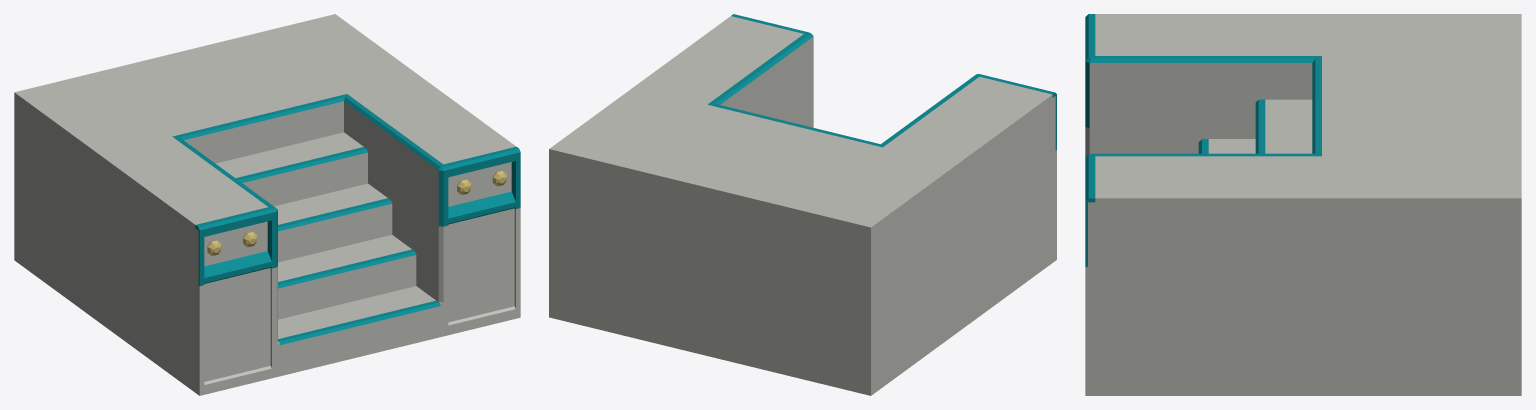
File: stairs.glb
3 views of the same model, side by side, from view 1: azimuth 30°, elevation 25°; view 2: azimuth 150°, elevation 25°; view 3: azimuth 270°, elevation 25° (orthographic). The views are drawn at different scales.
Visible parts, largest first — view 1: mesh_0; view 2: mesh_0; view 3: mesh_0.
Part boxes in pixels (x1=…): mesh_0: x1=14, y1=14, x2=520, y2=395; mesh_0: x1=549, y1=14, x2=1056, y2=395; mesh_0: x1=1085, y1=14, x2=1521, y2=395.
Bounding box in the file's own units: 2 × 1 × 2.
